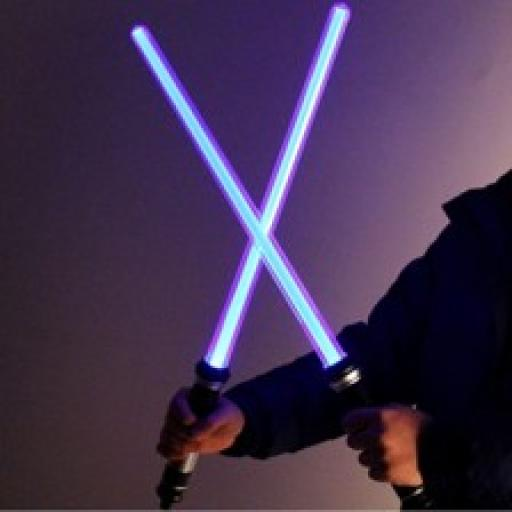lightsaber: (132, 26, 424, 498), (154, 2, 350, 511)
